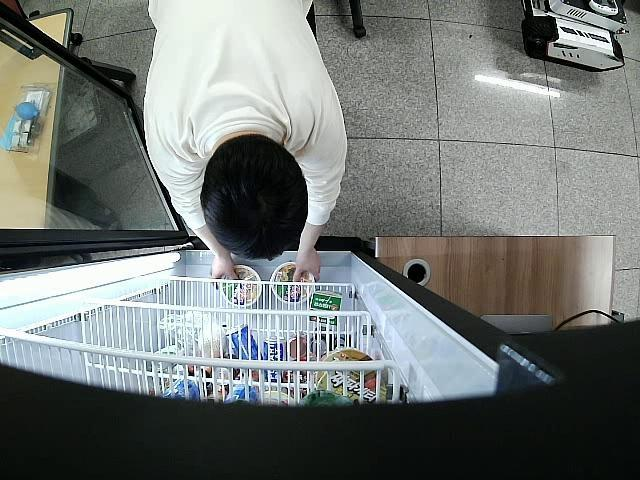09_yukGaeJang: (271, 263, 316, 304), (218, 265, 262, 306)
